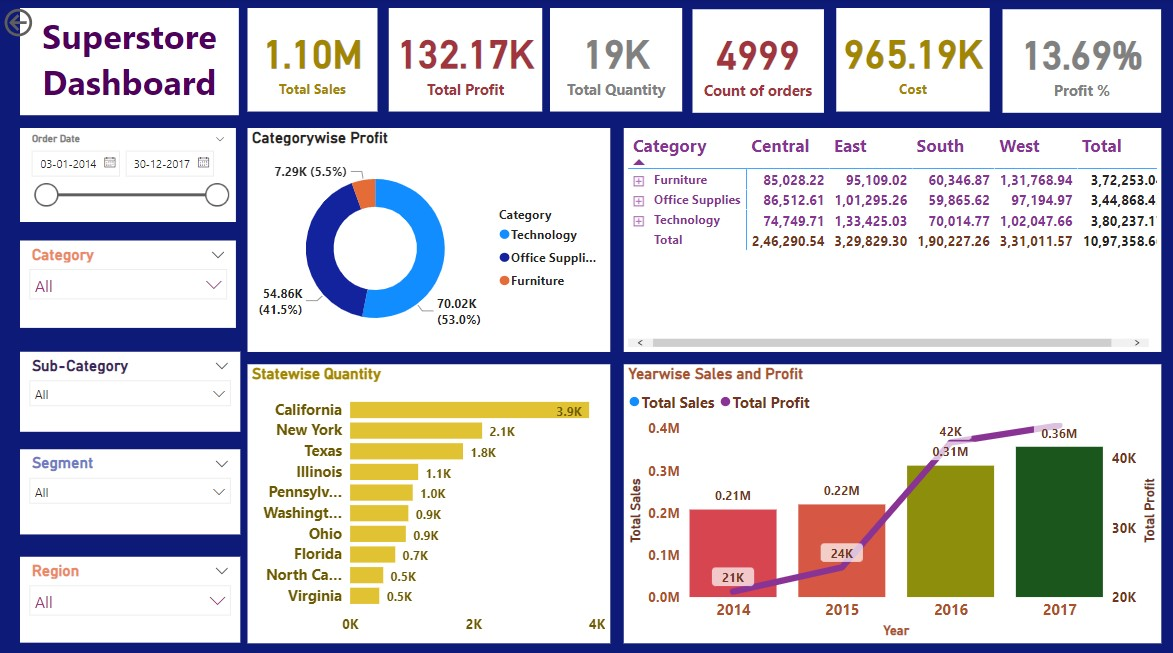

Layout of this report page (visuals, bound fields, positions):
{"tool":"powerbi","page":{"name":"Insights 4","canvas":[1280,720],"ordinal":3},"visuals":[{"type":"card","fields":{"Values":["Sum(Sample - Superstore.Sales)"]},"box":[269.6,10.9,141.6,113],"z":0},{"type":"card","fields":{"Values":["Sum(Sample - Superstore.Profit)"]},"box":[423.5,10.9,167.5,113],"z":1000},{"type":"textbox","box":[21.8,10.9,238.3,117.1],"z":2000},{"type":"slicer","fields":{"Values":["Sample - Superstore.Region"]},"box":[21.8,608.7,239.7,94],"z":3000},{"type":"slicer","fields":{"Values":["Sample - Superstore.Segment"]},"box":[21.8,491.6,239.7,92.6],"z":4000},{"type":"slicer","fields":{"Values":["Sample - Superstore.Sub-Category"]},"box":[21.8,385.4,239.7,87.1],"z":5000},{"type":"actionButton","box":[0,7.3,100.2,40.3],"z":6000},{"type":"slicer","fields":{"Values":["Sample - Superstore.Order Date"]},"box":[21.8,141.6,235.6,102.1],"z":7000},{"type":"card","fields":{"Values":["Sum(Sample - Superstore.Quantity)"]},"box":[599.1,10.9,144.3,113],"z":8000},{"type":"pivotTable","fields":{"Values":["Sum(Sample - Superstore.Sales)"],"Rows":["Category.Category","Category.Sub-Category"],"Columns":["Sample - Superstore.Region"]},"box":[679.5,141.6,585.5,243.7],"z":9000},{"type":"donutChart","title":"Categorywise Profit","fields":{"Category":["Category.Category"],"Y":["Sum(Sample - Superstore.Profit)"]},"box":[269.6,141.6,394.9,243.7],"z":10000},{"type":"lineClusteredColumnComboChart","title":"Yearwise Sales and Profit","fields":{"Category":["Sample - Superstore.Order Date.Variation.Date Hierarchy.Year"],"Y":["Sum(Sample - Superstore.Sales)"],"Y2":["Sum(Sample - Superstore.Profit)"]},"box":[679.5,399,585.5,303.7],"z":11000},{"type":"card","fields":{"Values":["Category.Count of orders"]},"box":[754.4,12.3,143,113],"z":12000},{"type":"barChart","title":"Statewise Quantity","fields":{"Category":["Sample - Superstore.State"],"Y":["Sum(Sample - Superstore.Quantity)"]},"box":[269.6,399,394.9,303.7],"z":13000},{"type":"card","fields":{"Values":["Category.Cost"]},"box":[911,10.9,167.5,113],"z":14000},{"type":"card","fields":{"Values":["Category.Profit %"]},"box":[1092.1,12.3,172.9,113],"z":15000},{"type":"slicer","fields":{"Values":["Category.Category"]},"box":[21.8,264.2,235.6,95.3],"z":16000}]}

Visuals, with their boxes in screenshot pixels (x1, y1, x2, y2), scaled from the page's 1280x720 canvas onto the 1173x653 screenshot:
card - Sum(Sample - Superstore.Sales): left=247, top=10, right=377, bottom=112
card - Sum(Sample - Superstore.Profit): left=388, top=10, right=542, bottom=112
textbox: left=20, top=10, right=238, bottom=116
slicer - Sample - Superstore.Region: left=20, top=552, right=240, bottom=637
slicer - Sample - Superstore.Segment: left=20, top=446, right=240, bottom=530
slicer - Sample - Superstore.Sub-Category: left=20, top=350, right=240, bottom=429
actionButton: left=0, top=7, right=92, bottom=43
slicer - Sample - Superstore.Order Date: left=20, top=128, right=236, bottom=221
card - Sum(Sample - Superstore.Quantity): left=549, top=10, right=681, bottom=112
pivotTable - Sum(Sample - Superstore.Sales) x Category.Category: left=623, top=128, right=1159, bottom=349
"Categorywise Profit" donutChart: left=247, top=128, right=609, bottom=349
"Yearwise Sales and Profit" lineClusteredColumnComboChart: left=623, top=362, right=1159, bottom=637
card - Category.Count of orders: left=691, top=11, right=822, bottom=114
"Statewise Quantity" barChart: left=247, top=362, right=609, bottom=637
card - Category.Cost: left=835, top=10, right=988, bottom=112
card - Category.Profit %: left=1001, top=11, right=1159, bottom=114
slicer - Category.Category: left=20, top=240, right=236, bottom=326
